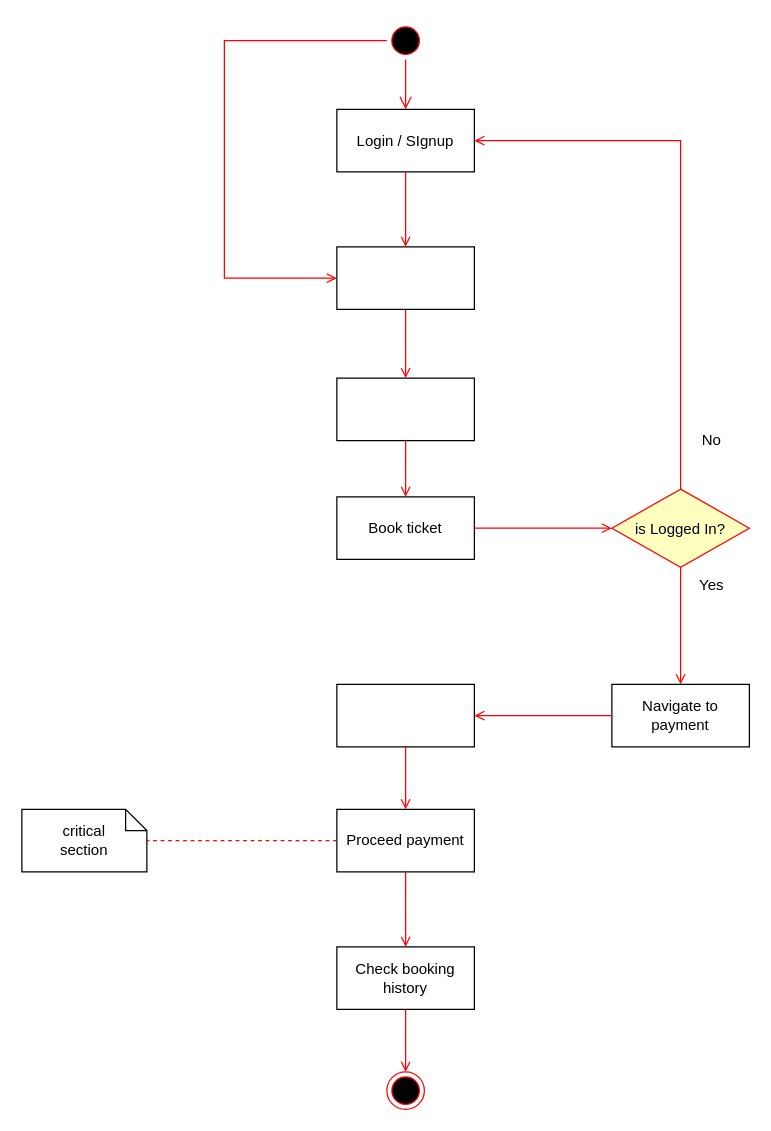
Some shapes in this 771 by 1131 pixel diagram are drawn without their labels. Here are the shapes that lost their labels. From the top down, the centre of each, then its label:
At (x=405, y=277): "View ticket list".
At (x=405, y=409): "Select a ticket for detail".
At (x=405, y=715): "Enter booking information".
